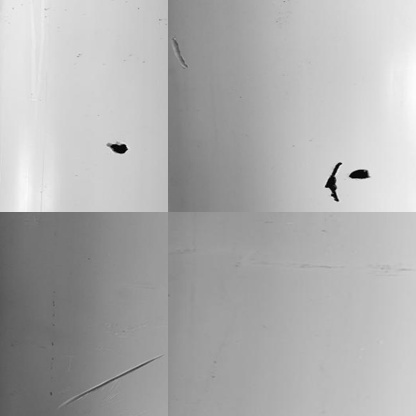kongdong: (323, 165, 347, 206), (349, 166, 377, 188), (106, 138, 131, 161)
sunshang: (50, 357, 161, 413), (167, 30, 190, 74)
